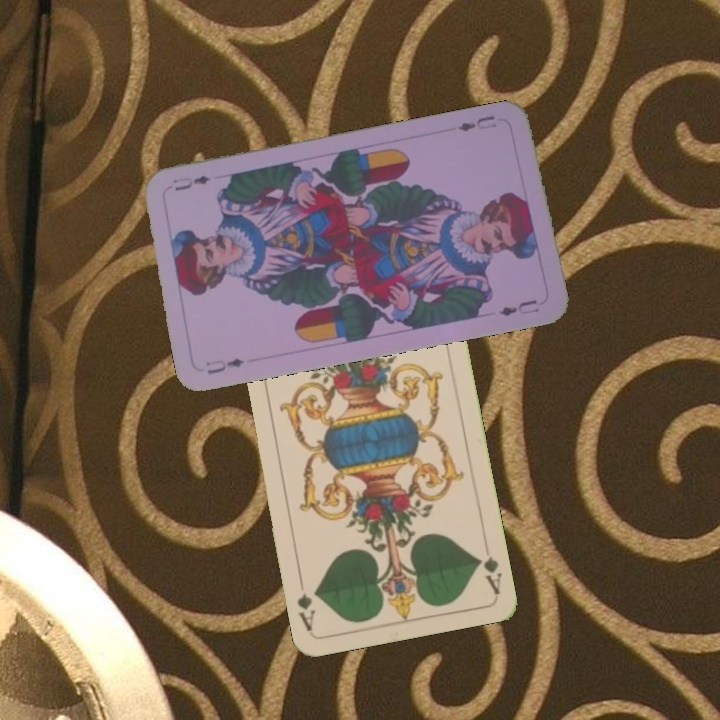EU: (454, 111, 499, 135), (203, 354, 247, 377)
GA: (473, 552, 504, 596)
